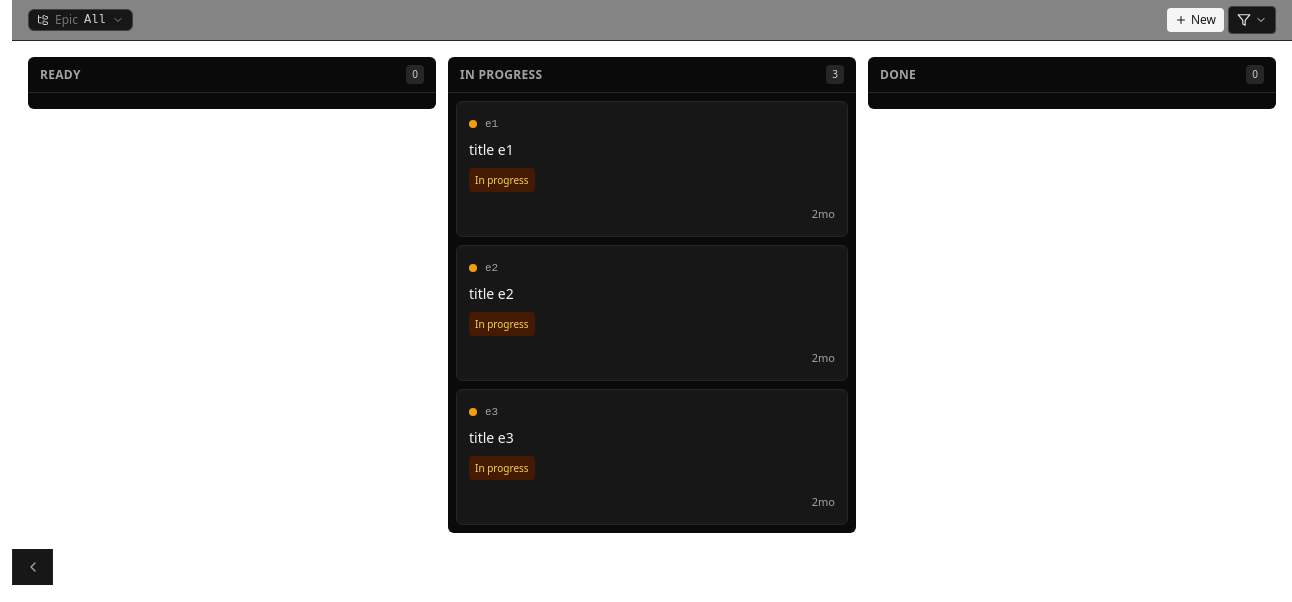
Scenario: BoardPage › scope picker narrows the kanban to the selected lineage
The width and height of the screenshot is (1292, 602).
Expected: the heading "title e1" is shown, x1=469 y1=140 x2=514 y2=159
Expected: the heading "title e2" is shown, x1=469 y1=284 x2=514 y2=303
Note: Open the picker, click the e1 scope.
Click the button with test id "board-scope-trigger". click: coordinates (80, 20)
box: x1=28 y1=9 x2=132 y2=31
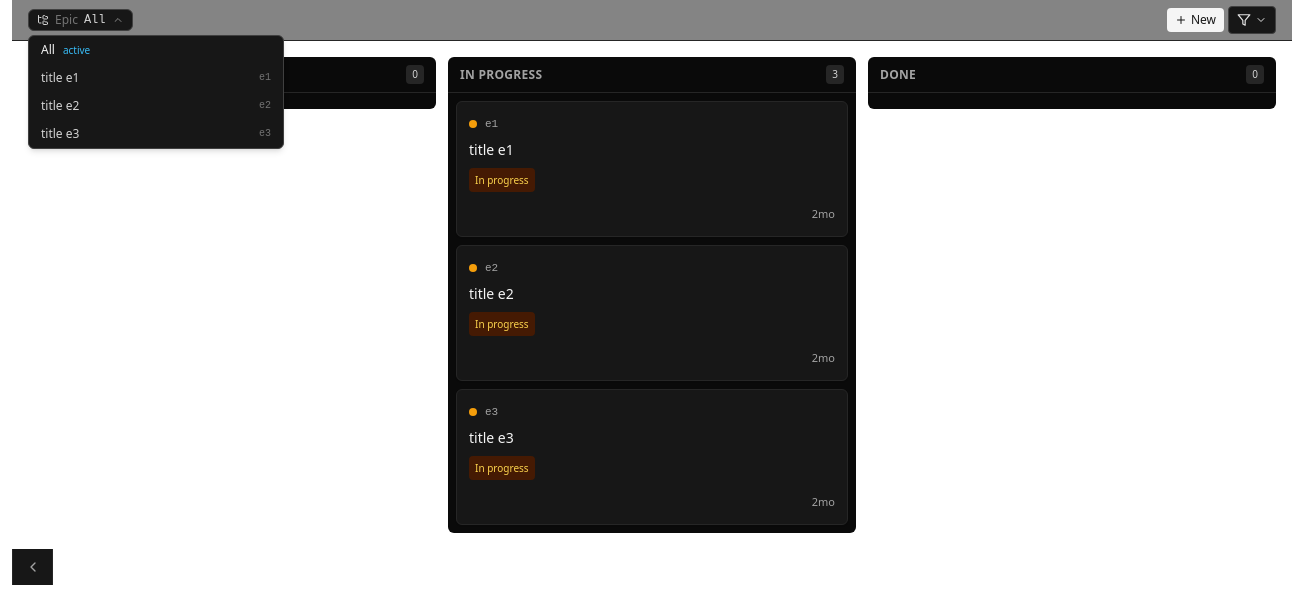
Expected: the option with test id "board-scope-option-e1" is shown
Click the option with test id "board-scope-option-e1". click: coordinates (156, 78)
box: x1=29 y1=64 x2=283 y2=92
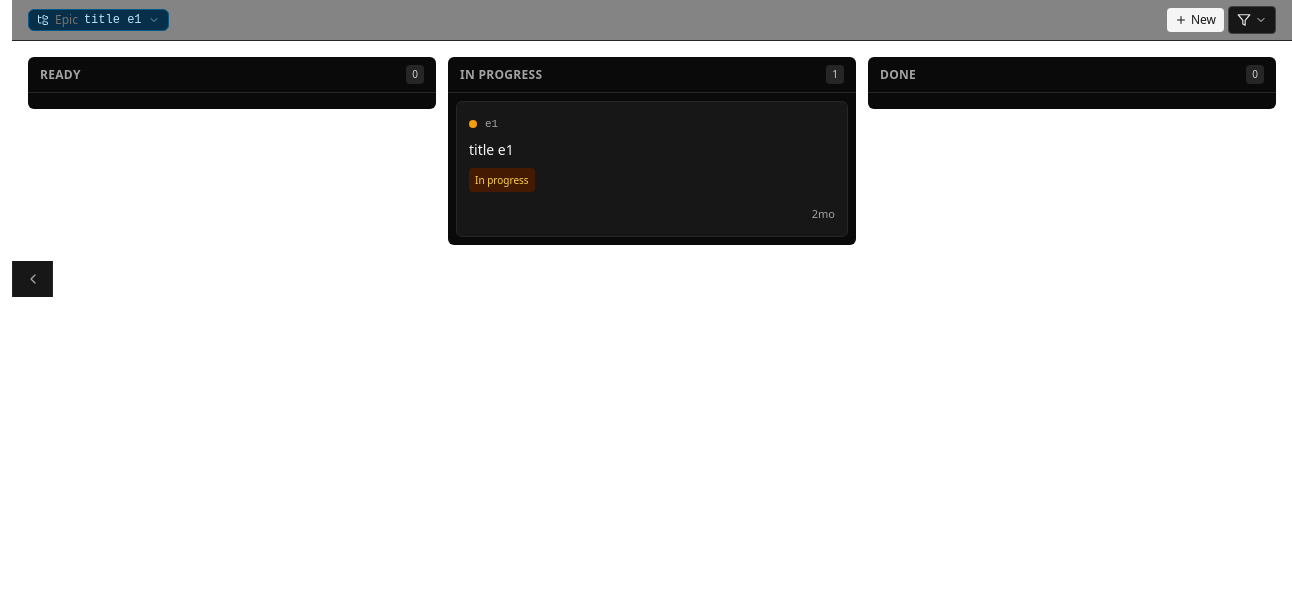
Expected: the option "title e2" is gone
Expected: the option "title e3" is gone
Expected: the text "title e1" is shown, x1=84 y1=12 x2=142 y2=28
